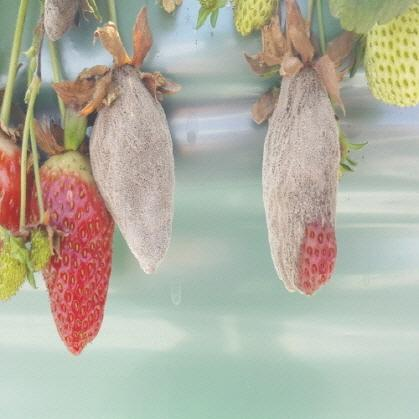Gray Mold: (260, 64, 341, 295), (88, 63, 174, 274), (42, 0, 80, 42)
